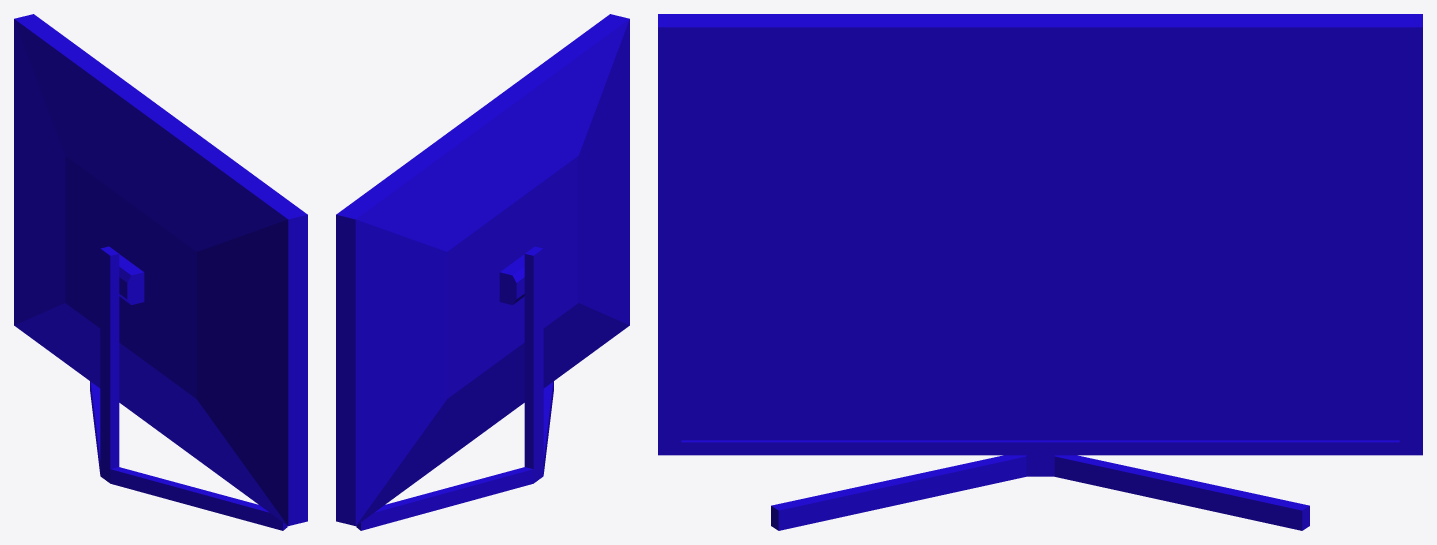
File: monitor.fbx
The picture shows the model from 3 angles, left to right: view 1: azimuth 30°, elevation 25°; view 2: azimuth 150°, elevation 25°; view 3: azimuth 270°, elevation 25°; orthographic projection. The views are drawn at different scales.
Visible parts, largest first — view 1: pc; view 2: pc; view 3: pc.
Boxes of the visible parts, x1,y1,x2,y2 form: pc: (14, 14, 307, 530); pc: (336, 14, 629, 530); pc: (658, 14, 1422, 530).
Bounding box in the file's own units: 26.69 × 101 × 143.
